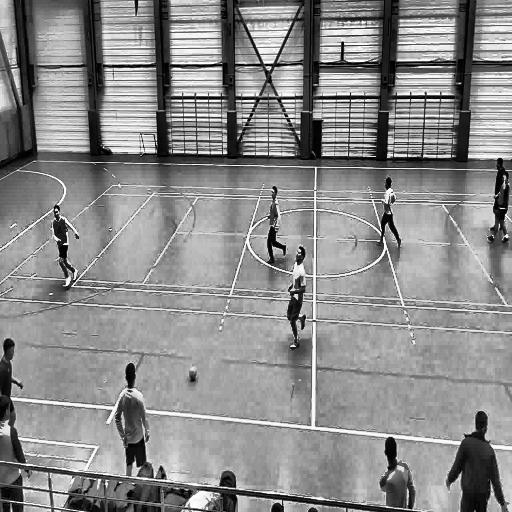ball: (188, 366, 198, 382)
player: (444, 408, 507, 512), (114, 360, 149, 474), (379, 433, 416, 512), (50, 203, 80, 294), (284, 244, 308, 356), (377, 177, 403, 252), (265, 183, 286, 264), (490, 172, 508, 246), (490, 151, 506, 231)
